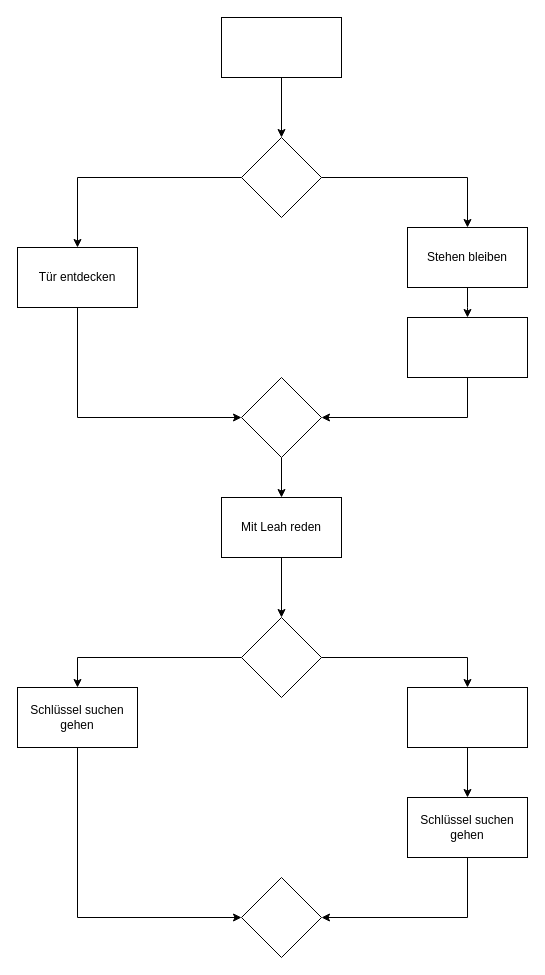
Image size: 545x975. Some labels were removed from this diagram. Each missing label, with the centre of its shape:
"Beginning" belongs at (281,47).
"Leyah Background infos" belongs at (467,717).
"Stein entdecken" belongs at (467,347).
